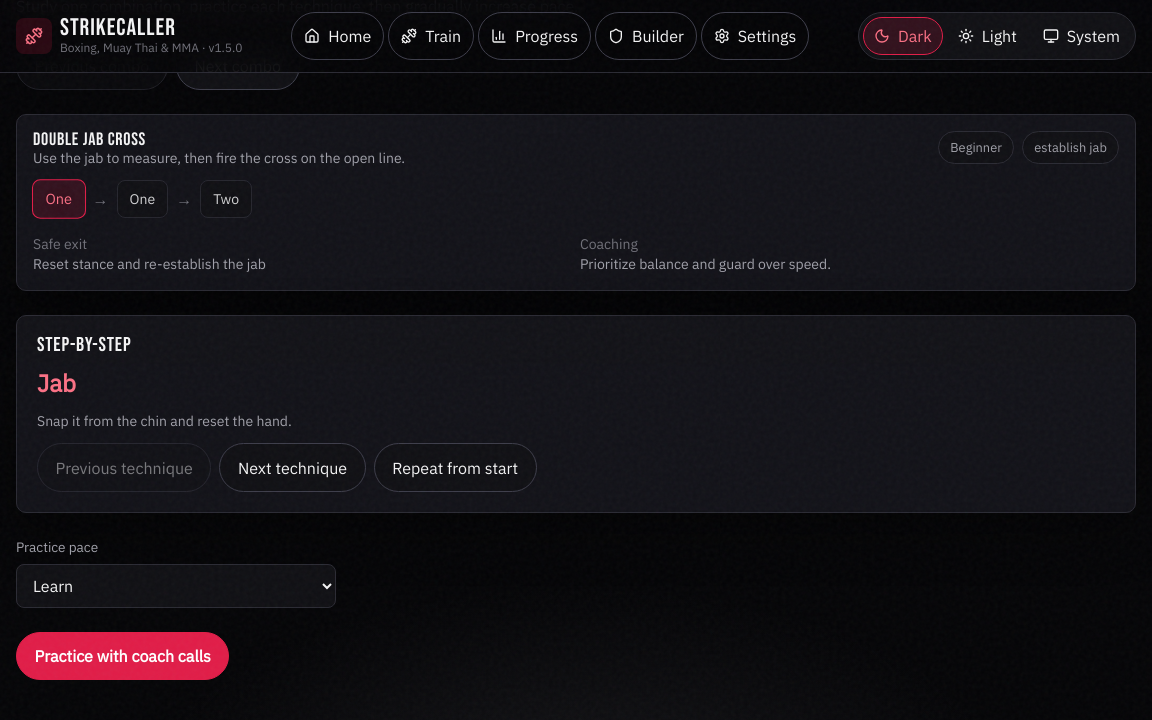
it: v1.1.3 data-router session entry integration › Learn Mode practice opens Session
(page scrolled)
Click the button "Practice with coach calls" at (123, 656), box [16,632,229,680]
(page scrolled)
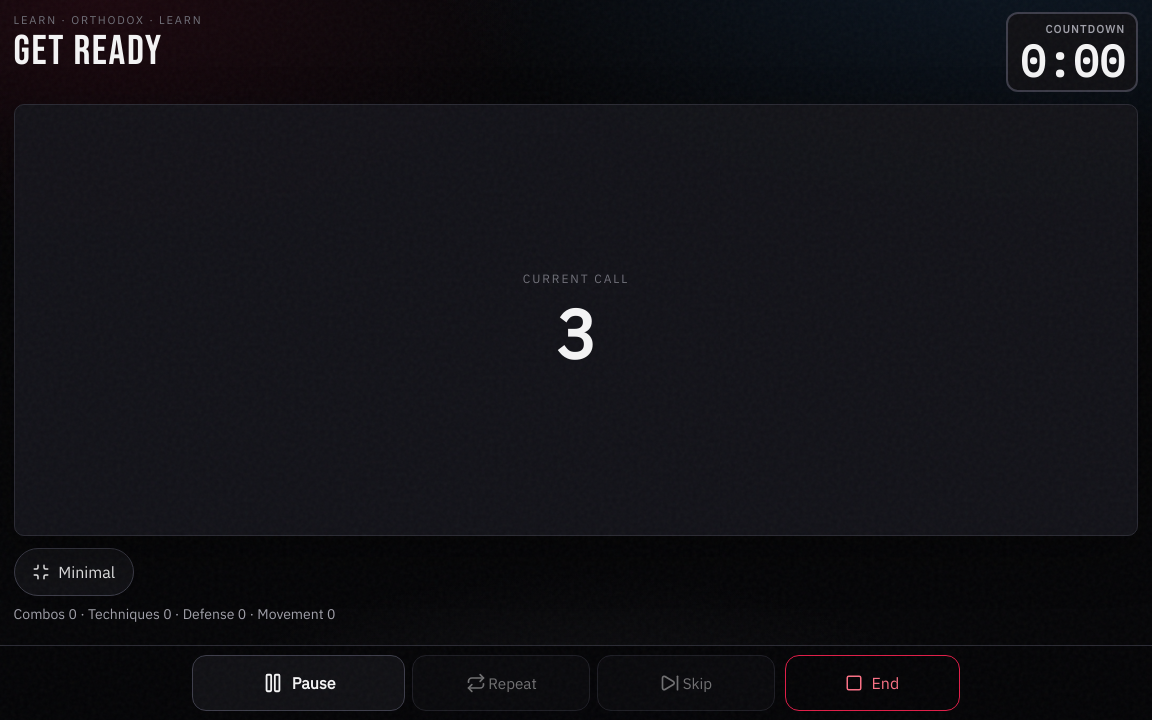
expect the heading "Get ready" is shown: met, box [14,27,163,76]
